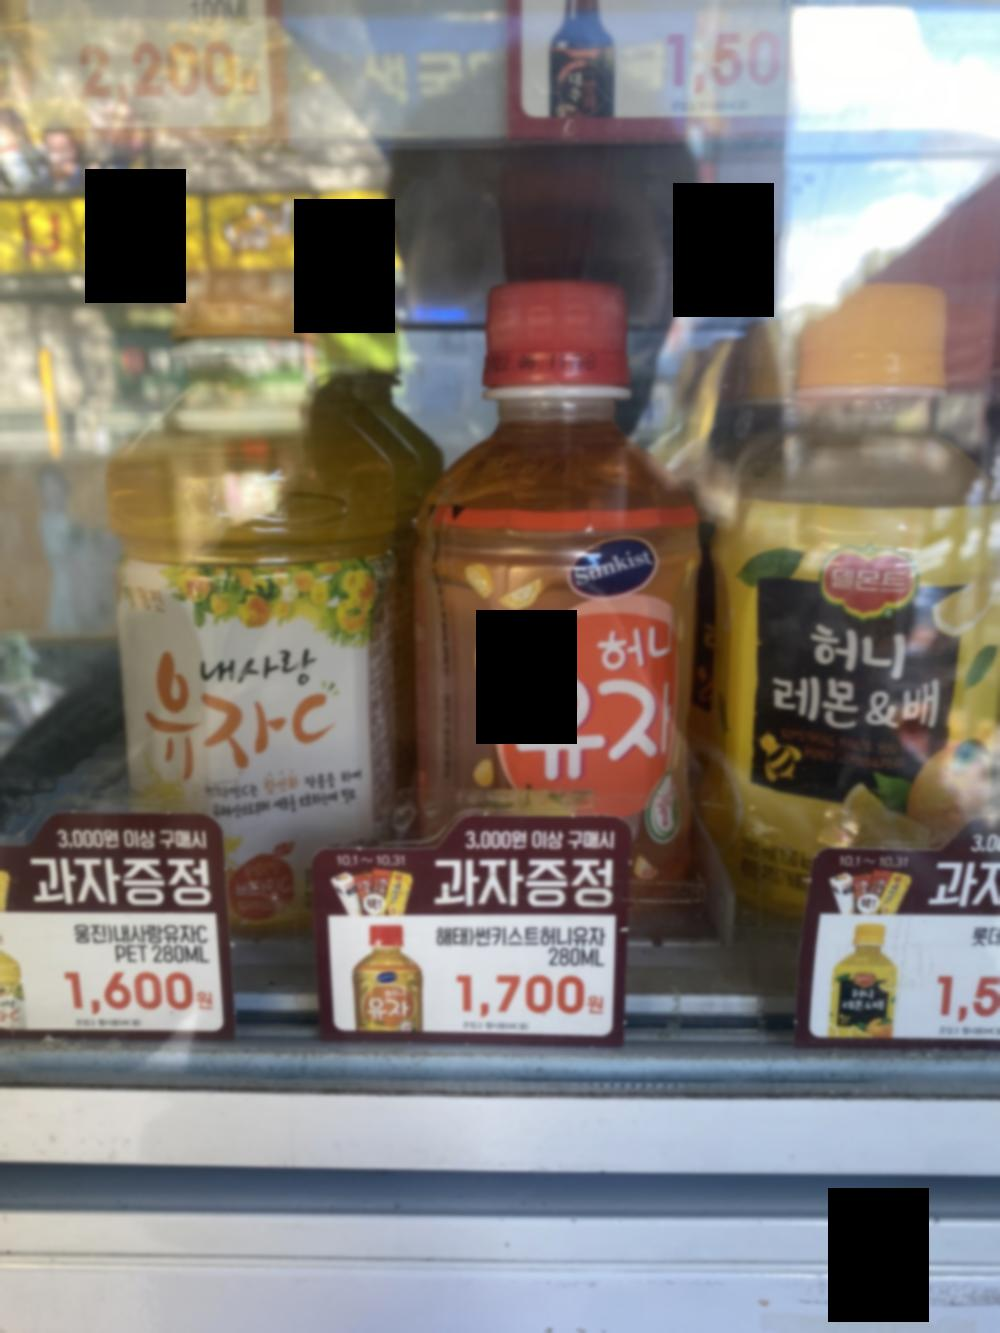honeyyuja: (388, 267, 712, 851)
